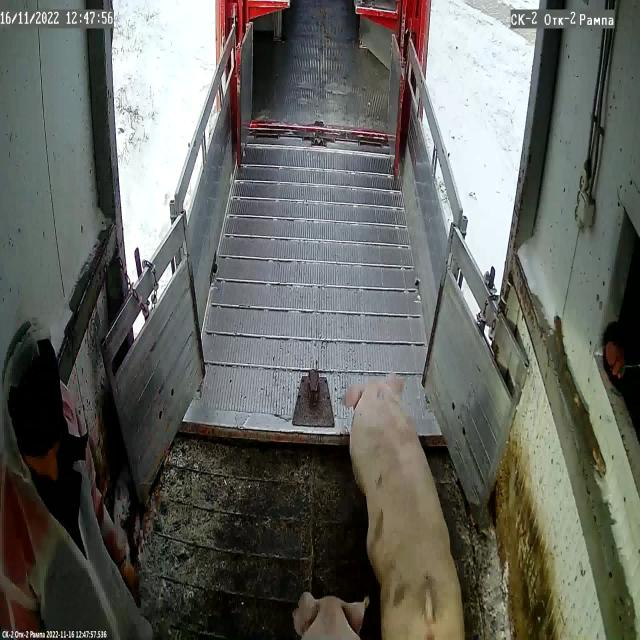pig: (344, 375, 465, 640), (294, 593, 366, 640)
